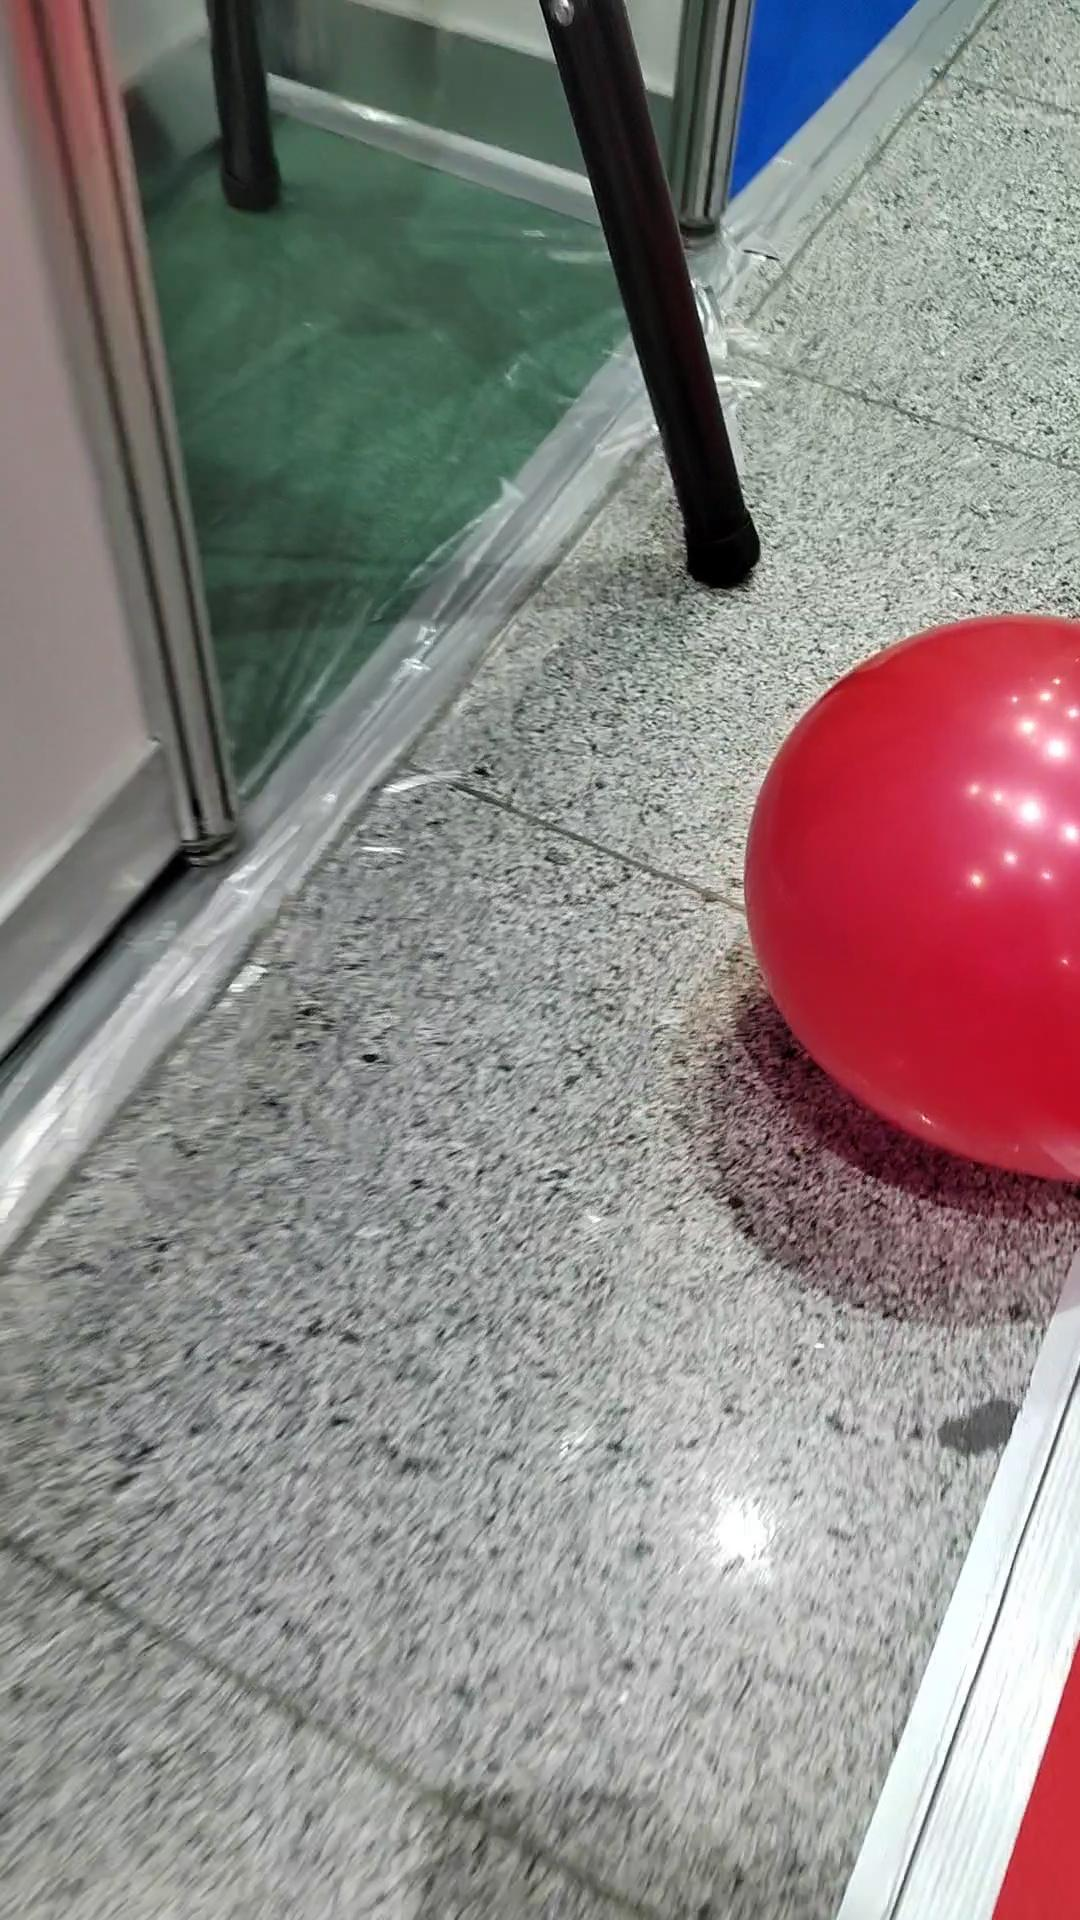red: (737, 611, 1080, 1195)
